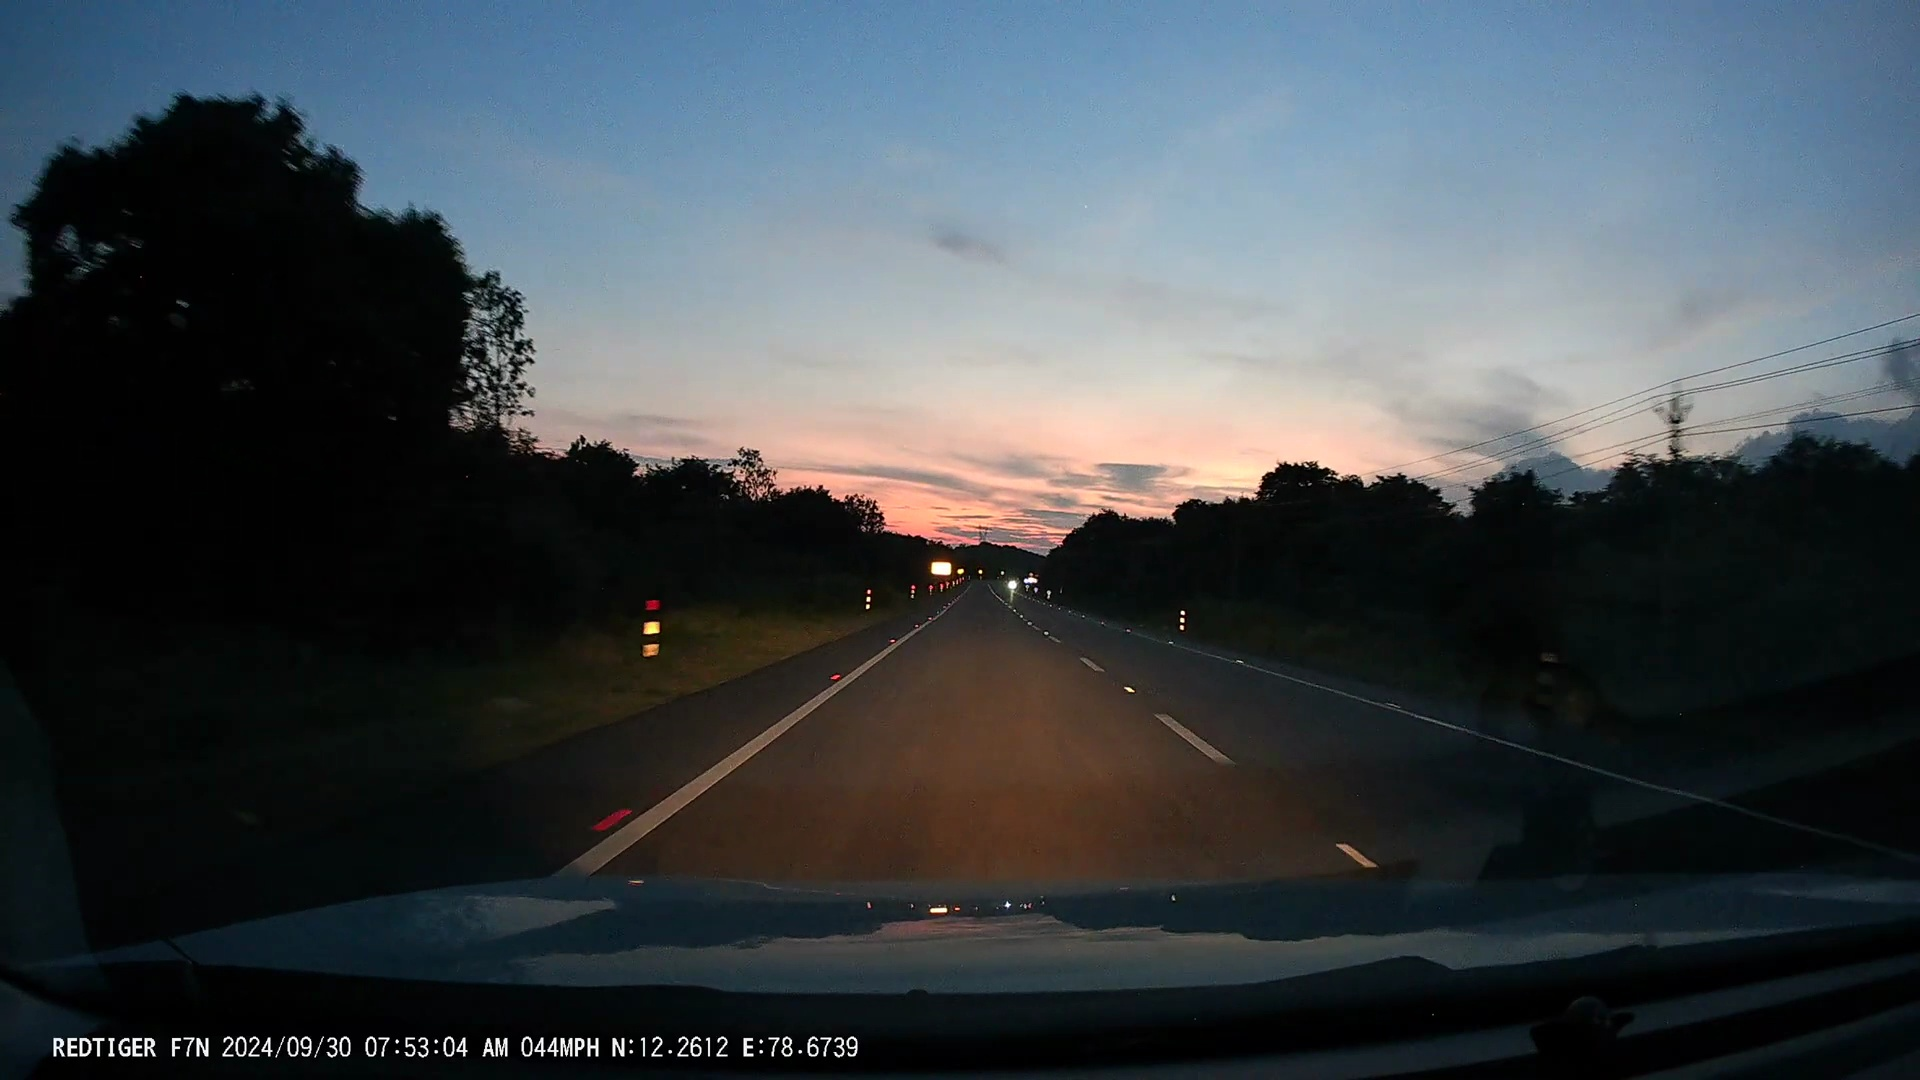headlight: (1006, 580, 1021, 589)
two wheeler: (1001, 572, 1025, 599)
